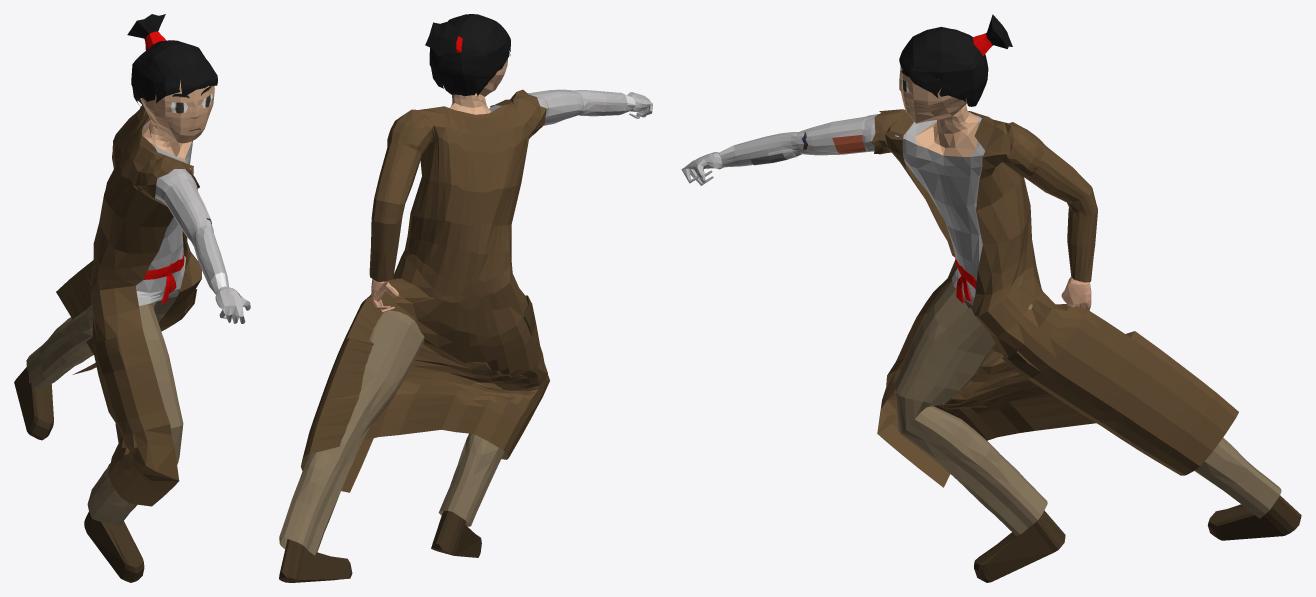
The model's file is OneAnimationTest_000006.obj.
3 views of the same model, side by side, from view 1: azimuth 30°, elevation 25°; view 2: azimuth 150°, elevation 25°; view 3: azimuth 270°, elevation 25° (orthographic). The views are drawn at different scales.
Parts seen in each view (by area): view 1: Jacket_Cube, Body_Cube.003, Hair_Cube.004; view 2: Jacket_Cube, Body_Cube.003, Hair_Cube.004; view 3: Jacket_Cube, Body_Cube.003, Hair_Cube.004.
Part boxes in pixels (x1=…): Jacket_Cube: x1=56, y1=105, x2=201, y2=506; Body_Cube.003: x1=14, y1=80, x2=250, y2=582; Hair_Cube.004: x1=127, y1=14, x2=217, y2=106; Jacket_Cube: x1=301, y1=89, x2=549, y2=492; Body_Cube.003: x1=279, y1=59, x2=652, y2=582; Hair_Cube.004: x1=425, y1=14, x2=510, y2=96; Jacket_Cube: x1=871, y1=109, x2=1238, y2=487; Body_Cube.003: x1=681, y1=67, x2=1301, y2=582; Hair_Cube.004: x1=899, y1=14, x2=1012, y2=106.
Size of the model in its own units: 0.9231 by 3.65 by 3.57.
